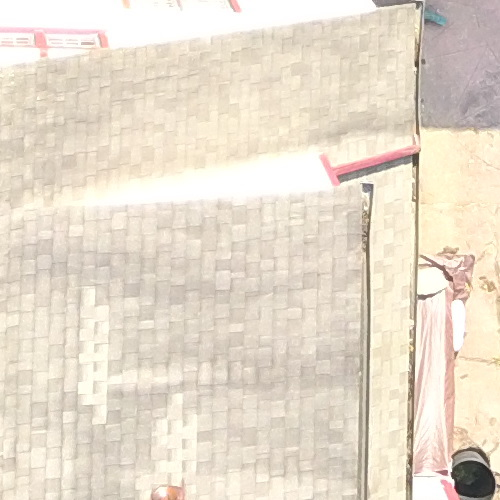container: (448, 442, 498, 500)
tarp: (401, 236, 476, 487)
